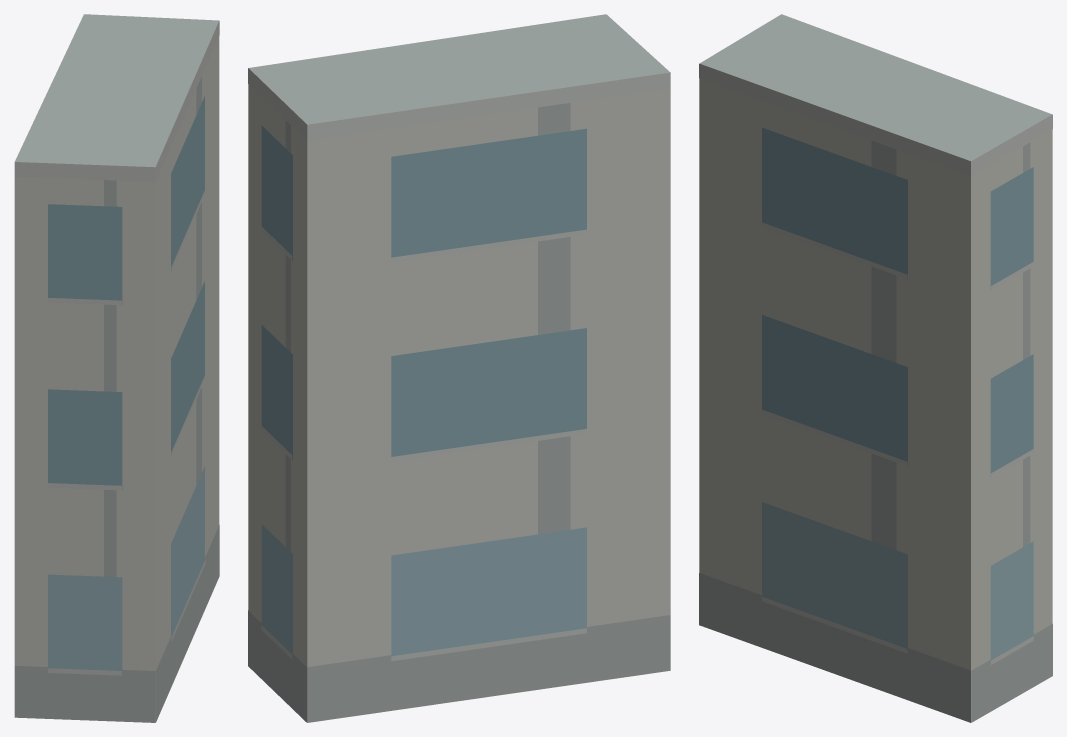
The model's file is survey-upis-32489325.glb.
3 views of the same model, side by side, from view 1: azimuth 30°, elevation 25°; view 2: azimuth 150°, elevation 25°; view 3: azimuth 270°, elevation 25° (orthographic). The views are drawn at different scales.
Visible parts, largest first — view 1: survey-upis-32489325.tmp; view 2: survey-upis-32489325.tmp; view 3: survey-upis-32489325.tmp.
Boxes of the visible parts, left/top/right/bottom form: survey-upis-32489325.tmp: left=14, top=14, right=219, bottom=722; survey-upis-32489325.tmp: left=248, top=14, right=670, bottom=722; survey-upis-32489325.tmp: left=699, top=14, right=1052, bottom=722.
Size of the model in its own units: 5.15 by 9.15 by 5.23.
